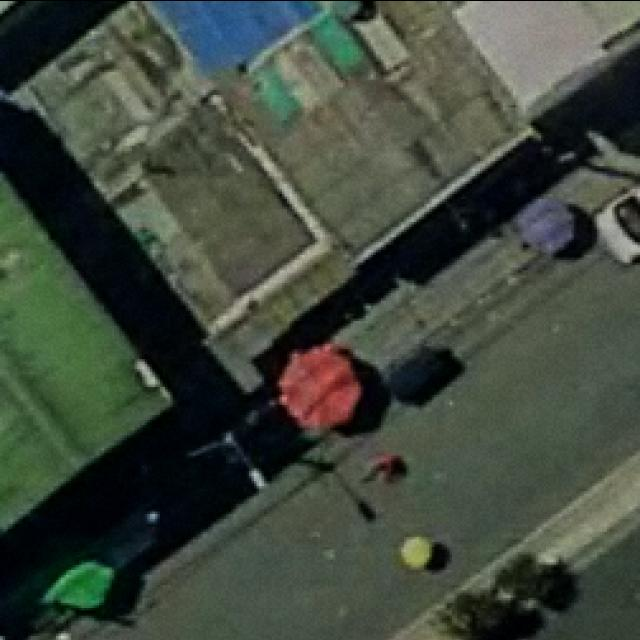vendedor_ambulante: (272, 344, 369, 438), (513, 187, 582, 260)
